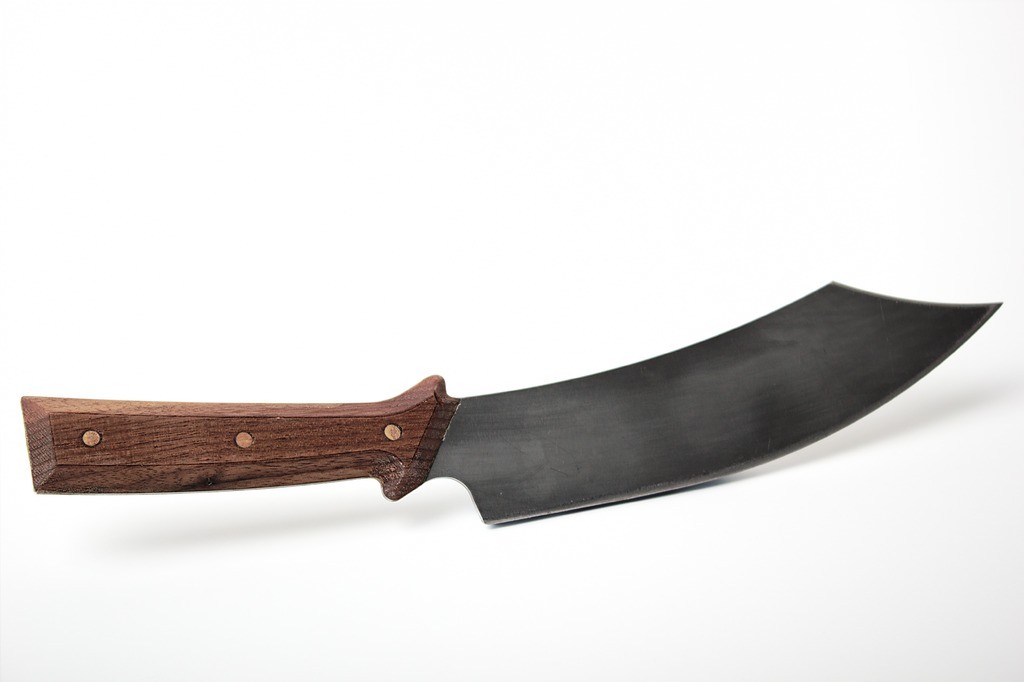knife: (20, 280, 1003, 524)
